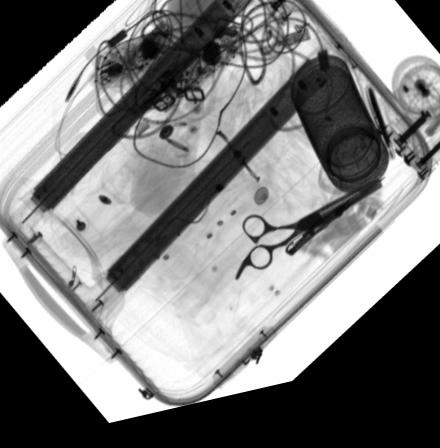Knife: (279, 184, 384, 277)
Powerbank: (359, 100, 398, 181)
Scissors: (233, 191, 382, 292)
